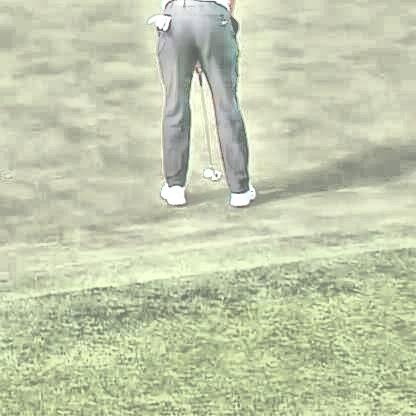golfball: (200, 166, 210, 176)
